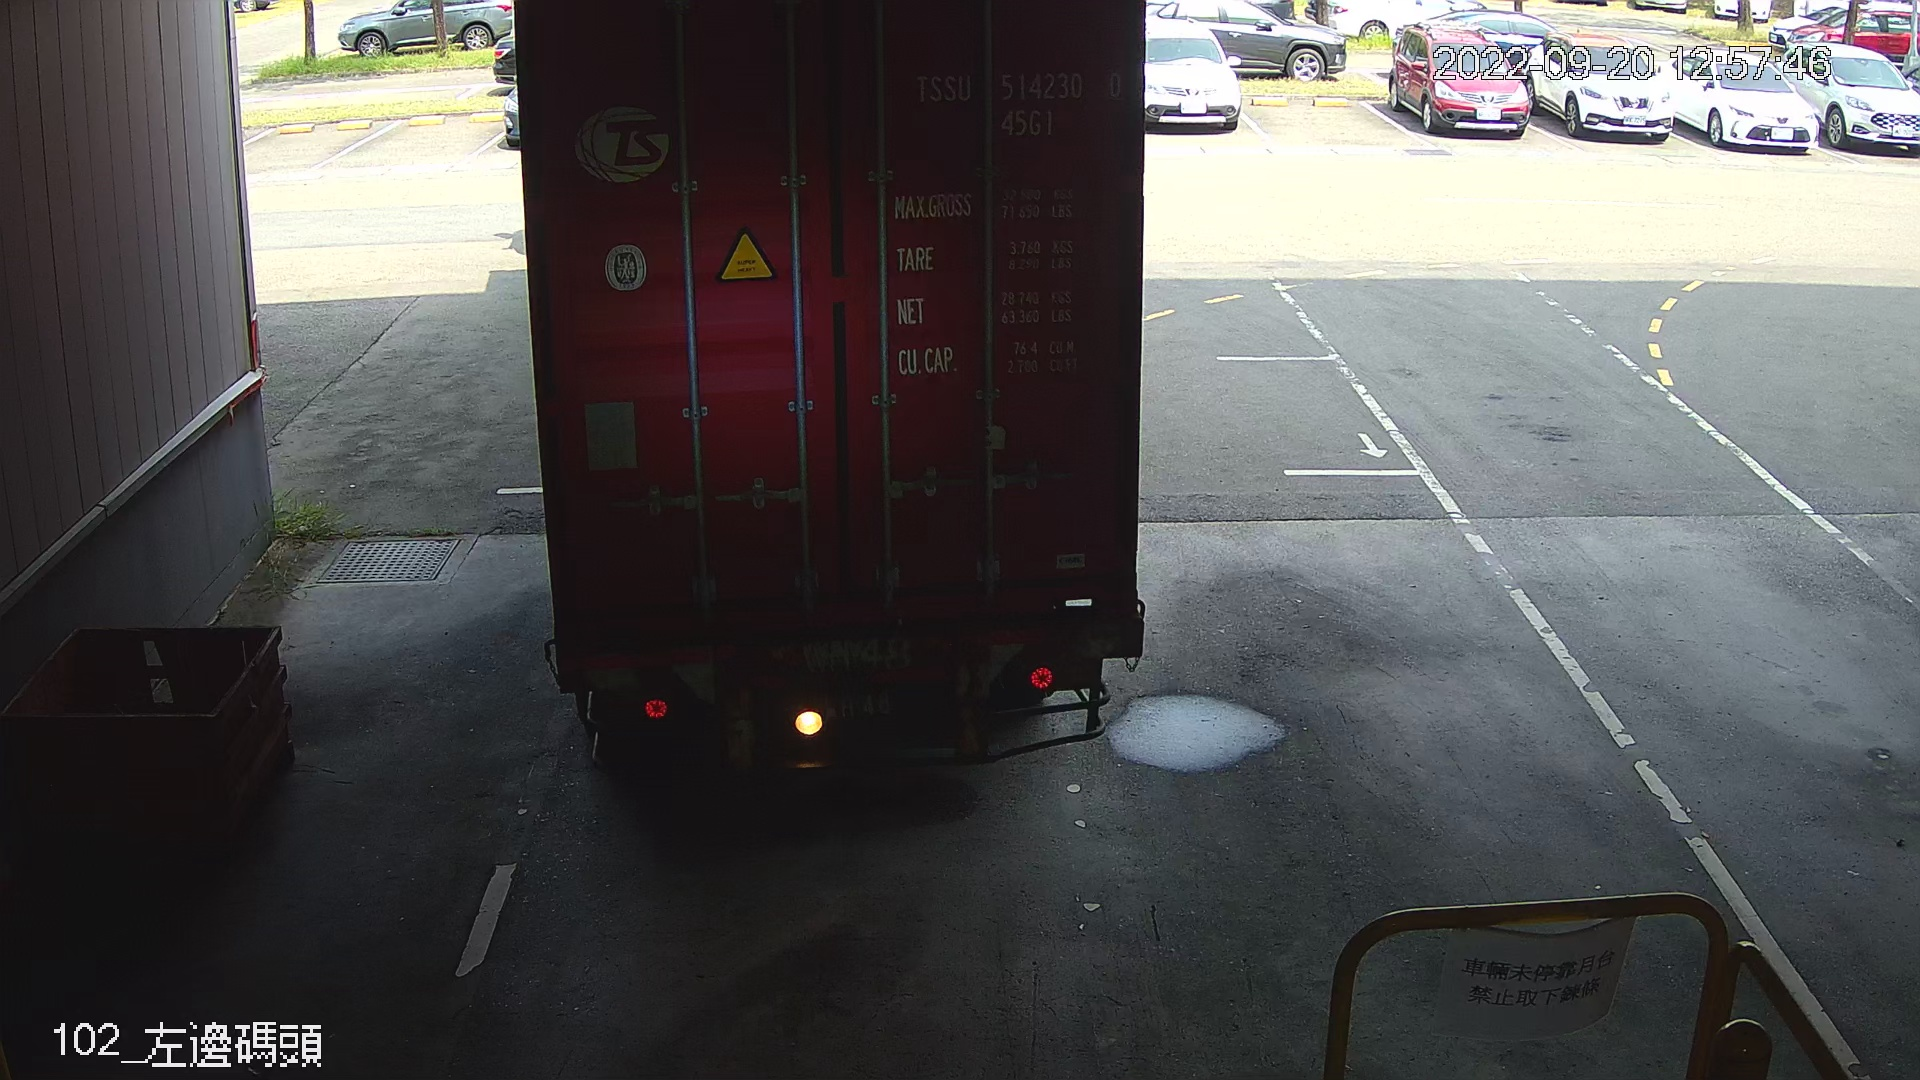container: (901, 58, 1134, 148)
